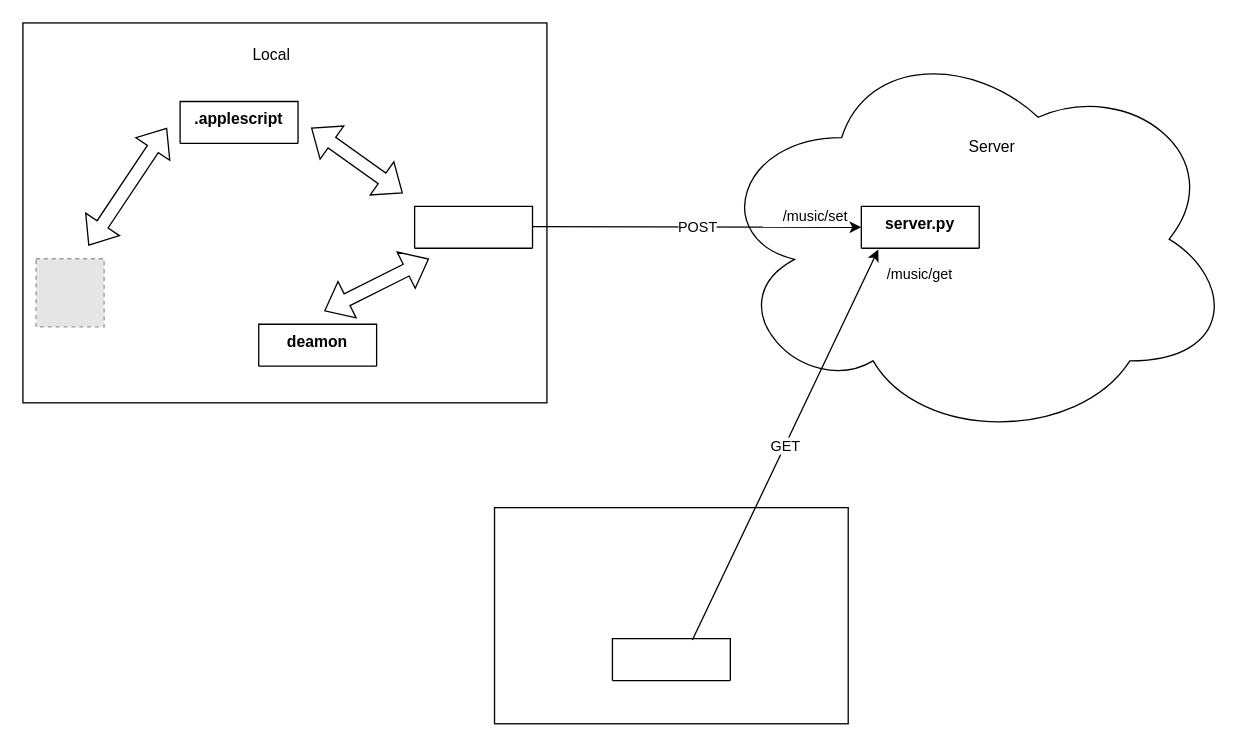
The diagram is 1258 pixels wide and 747 high, and some of its shapes have lost their labels. Grey dashed boxes stand in for pictures. Each missing label, with the centre of its shape:
export.py: (x=473, y=226)
user: (x=670, y=659)
